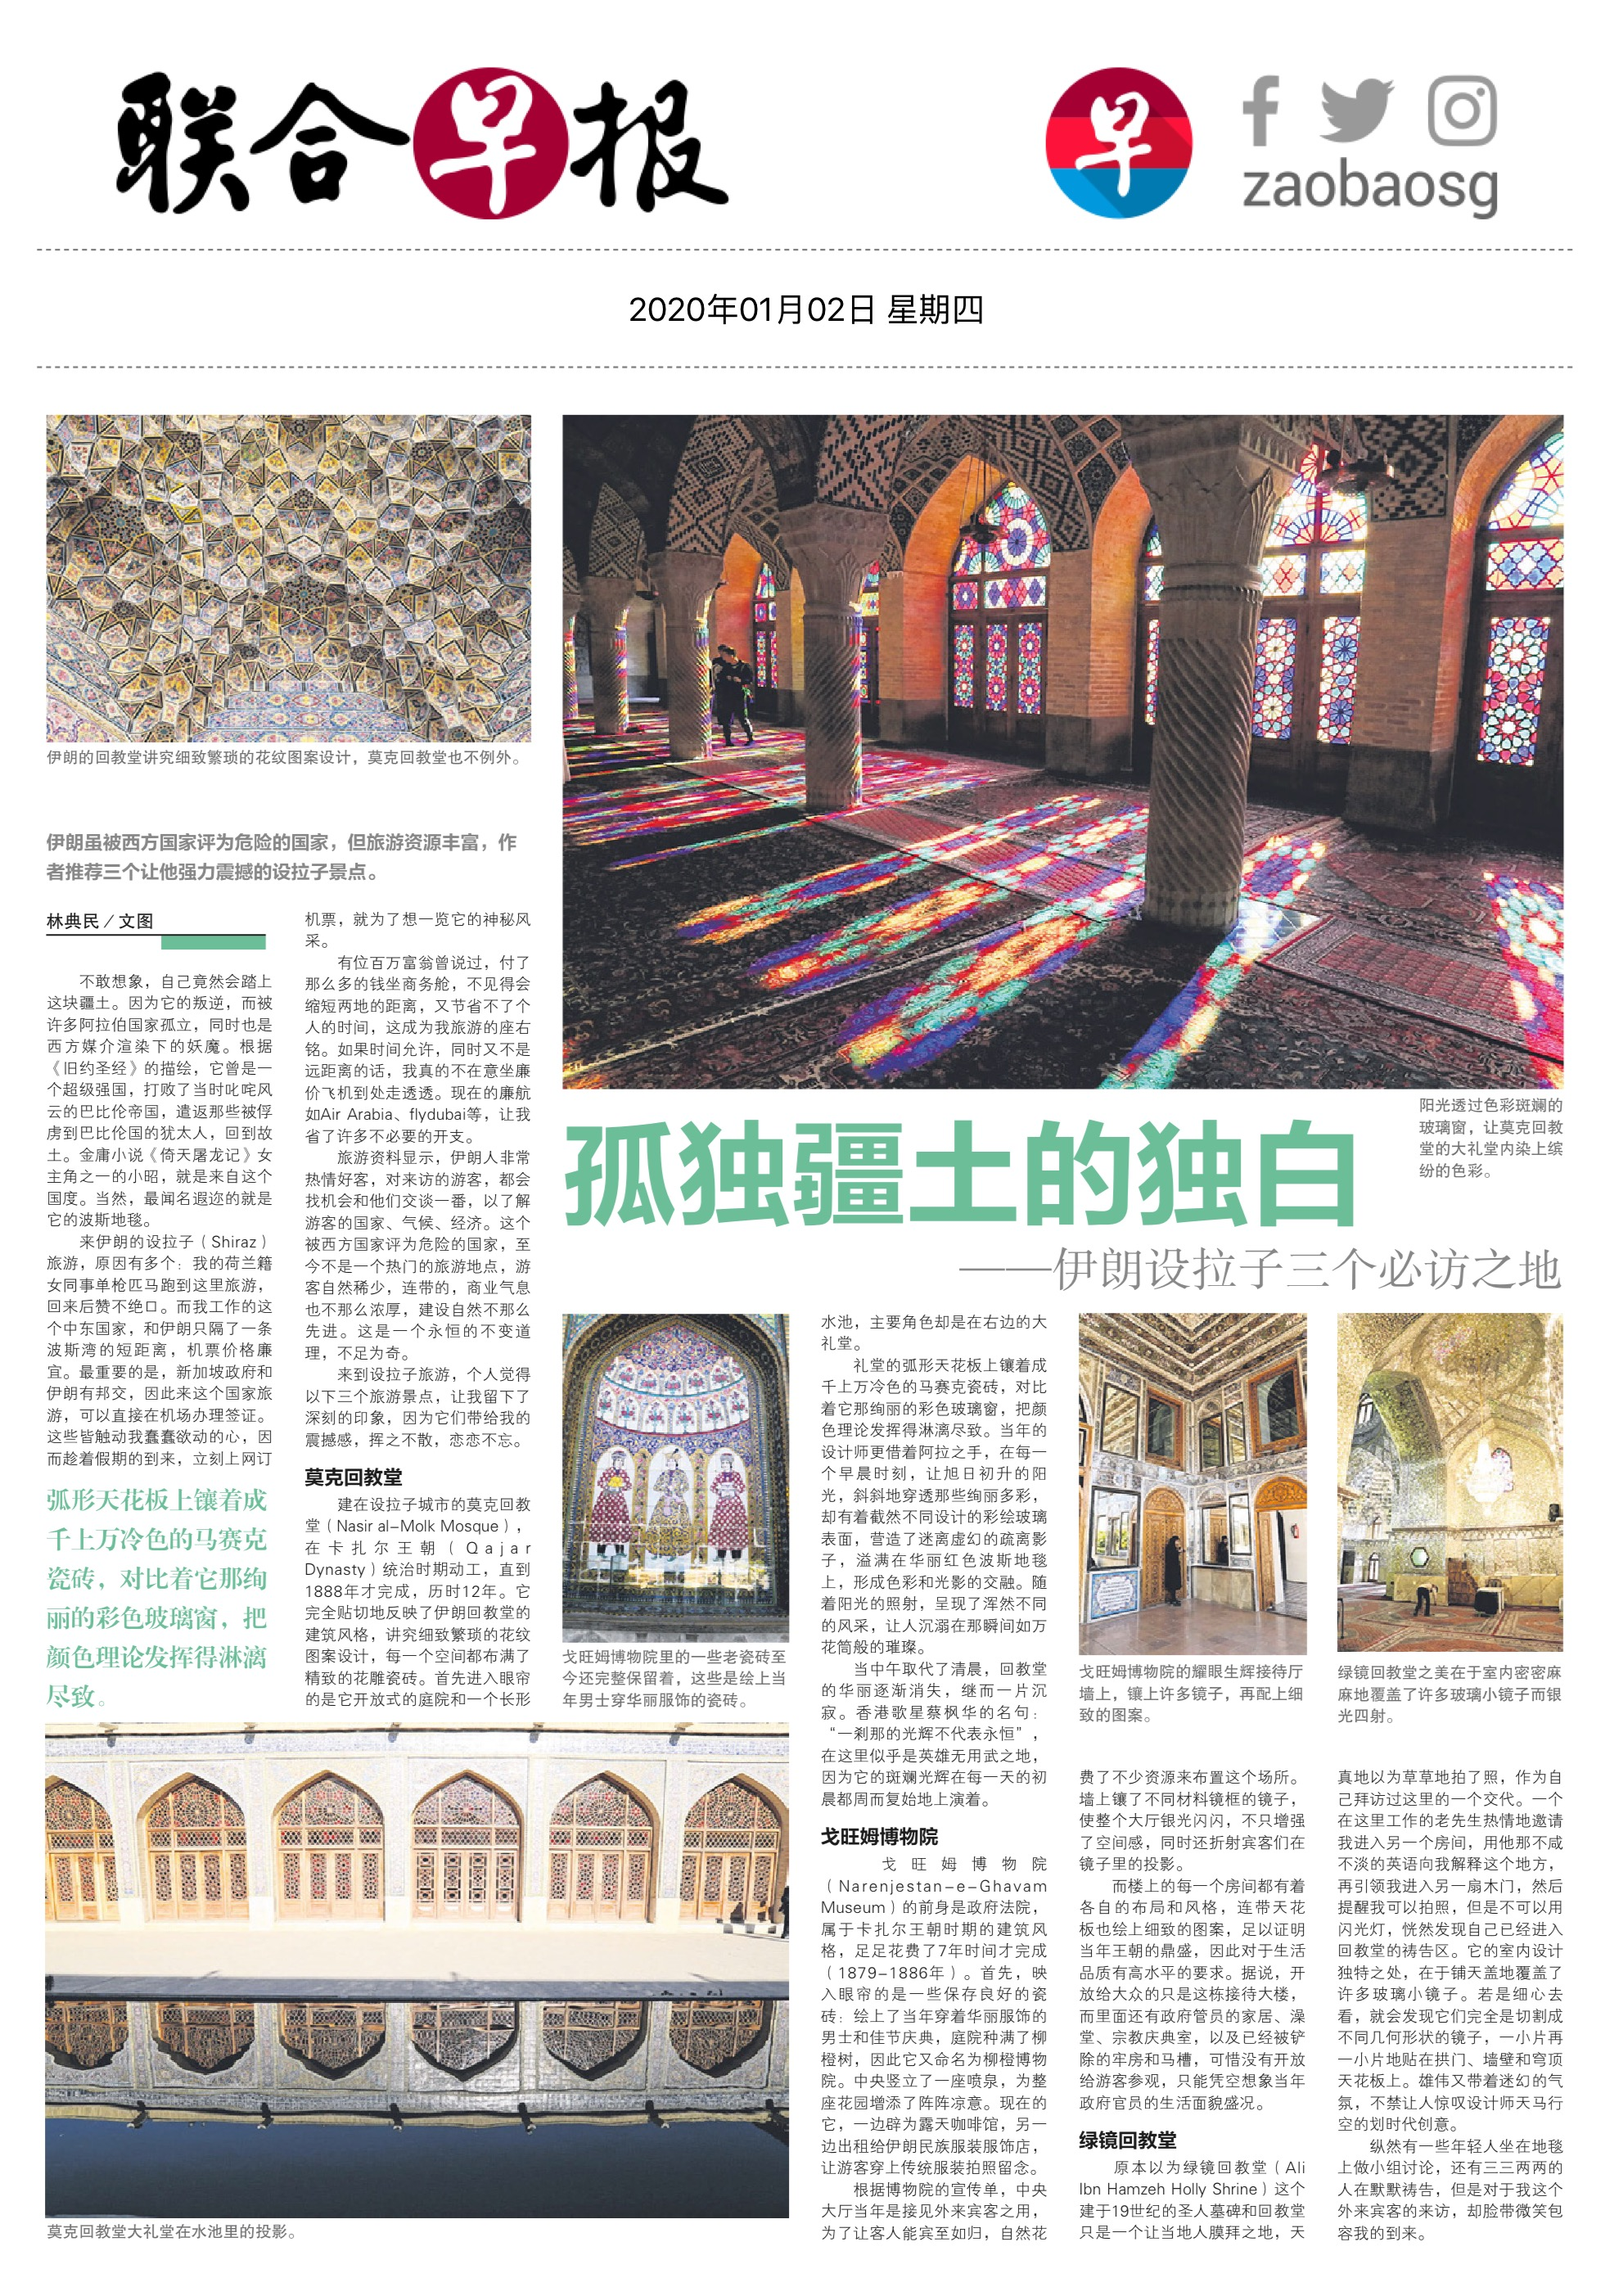heading: (555, 1103, 1366, 1238)
